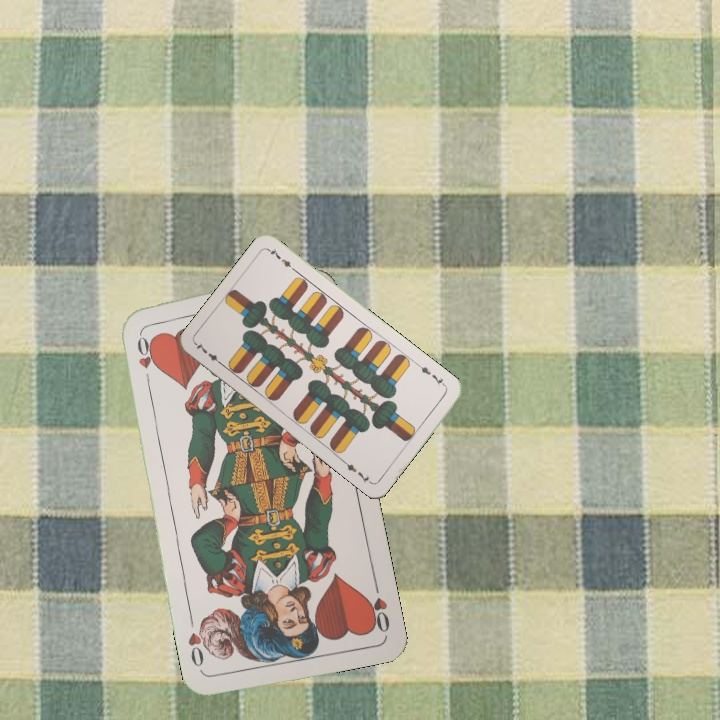E7: (192, 338, 226, 369), (414, 360, 449, 390)
HO: (363, 577, 393, 635), (133, 329, 154, 388)
